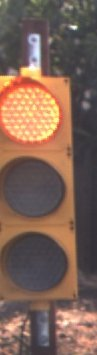Red: (4, 36, 89, 343)
